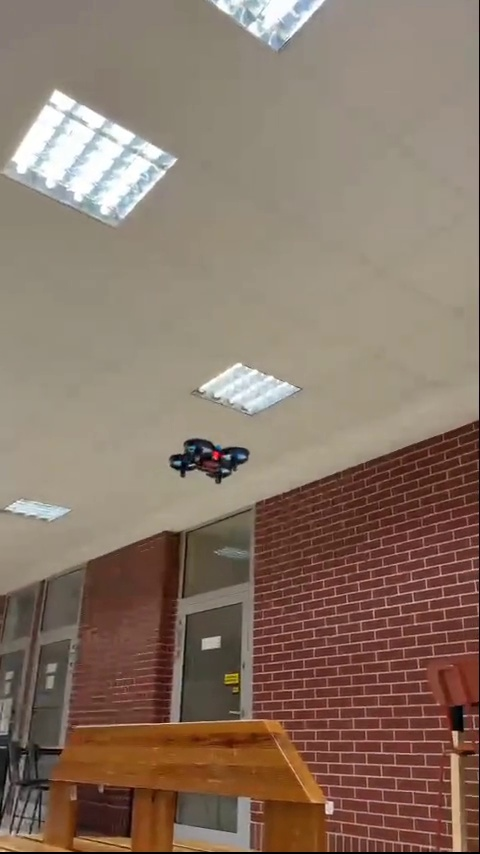drone: (169, 432, 256, 483)
